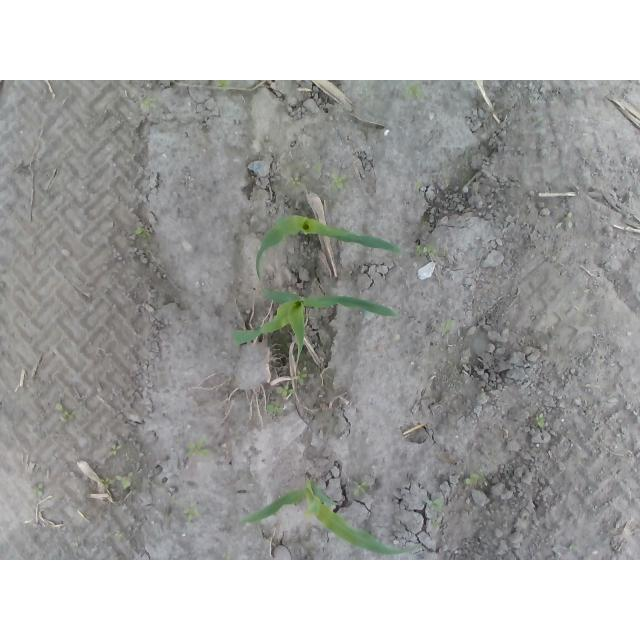Maize: (238, 477, 414, 560), (231, 280, 398, 357), (255, 208, 405, 281)
Weeds: (54, 400, 72, 422), (186, 440, 207, 457), (352, 478, 369, 498), (275, 382, 296, 398), (423, 497, 445, 512), (183, 506, 202, 523), (405, 83, 426, 98), (116, 472, 133, 489), (415, 244, 437, 257), (295, 366, 309, 386), (267, 402, 286, 416), (440, 320, 456, 336), (331, 174, 346, 190), (464, 472, 481, 485), (310, 160, 322, 176), (32, 482, 44, 497), (535, 413, 546, 428), (565, 211, 574, 229), (111, 443, 124, 455), (288, 176, 302, 187), (216, 80, 232, 89), (99, 477, 113, 487), (135, 226, 146, 238), (431, 519, 442, 529), (141, 100, 152, 108)
